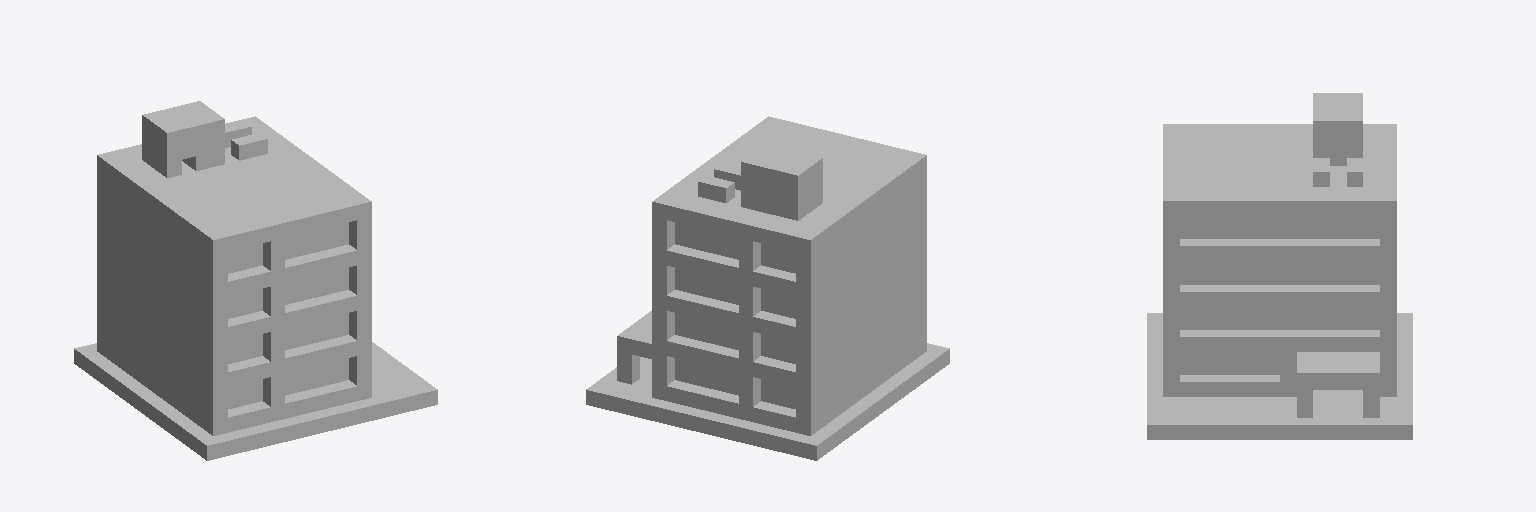
File: Hospital.obj
3 renders of one model, left to right at view 1: azimuth 30°, elevation 25°; view 2: azimuth 150°, elevation 25°; view 3: azimuth 270°, elevation 25°, orthographic.
Bounding box in the file's own units: 16 × 17 × 16.